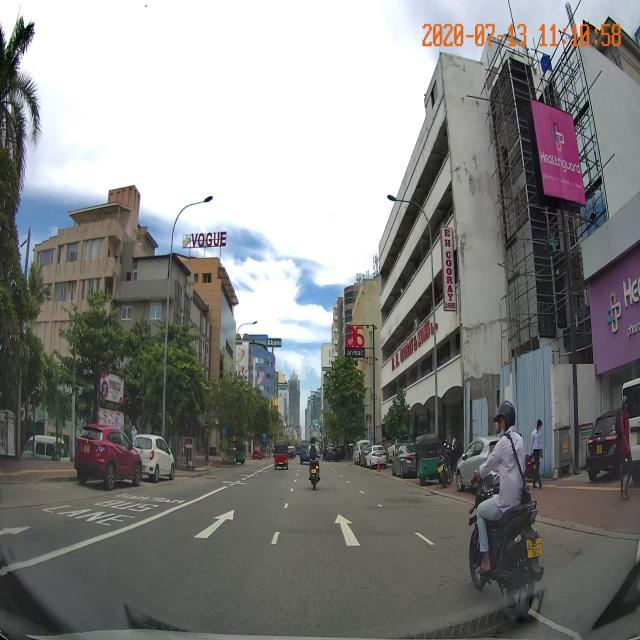forward: (267, 512, 439, 547)
